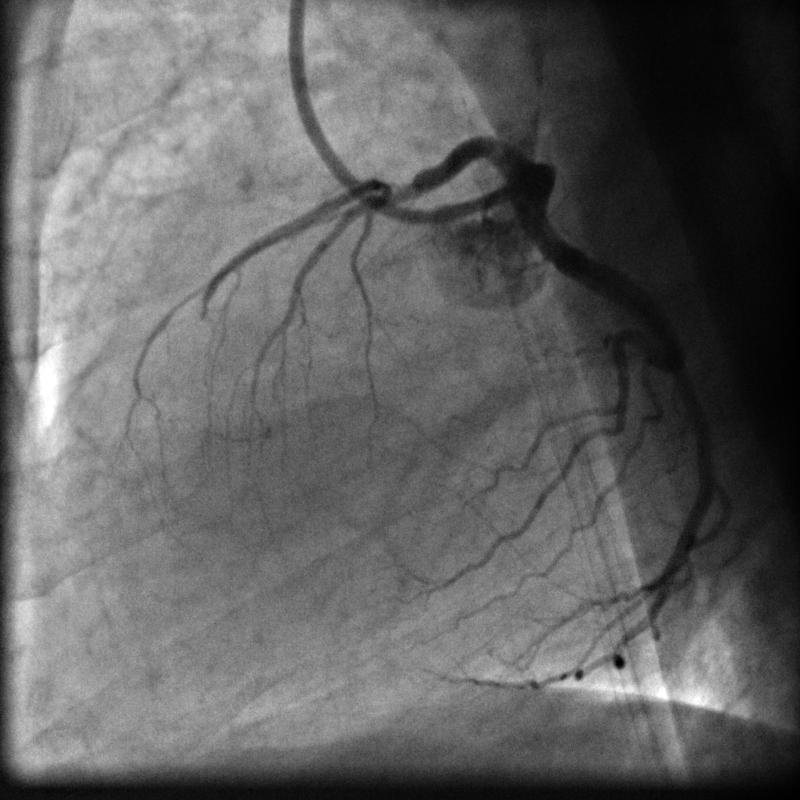Stenosis: (369, 174, 429, 208)
